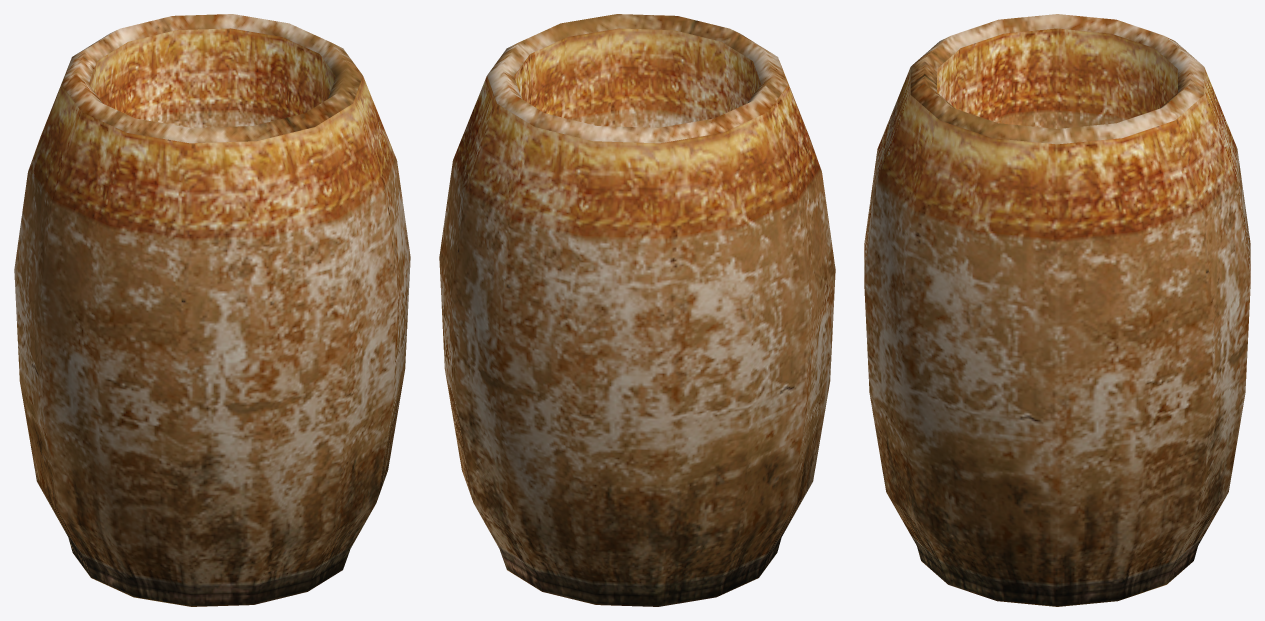
Rendered from crock3.obj.
3 views of the same model, side by side, from view 1: azimuth 30°, elevation 25°; view 2: azimuth 150°, elevation 25°; view 3: azimuth 270°, elevation 25° (orthographic).
Parts seen in each view (by area): view 1: crock3.obj; view 2: crock3.obj; view 3: crock3.obj.
Boxes of the visible parts, x1,y1,x2,y2 form: crock3.obj: (14,14,410,606); crock3.obj: (439,14,835,606); crock3.obj: (864,14,1250,606).
Bounding box in the file's own units: 9.21 × 12.2 × 8.98.
1 material, 1 textured.
